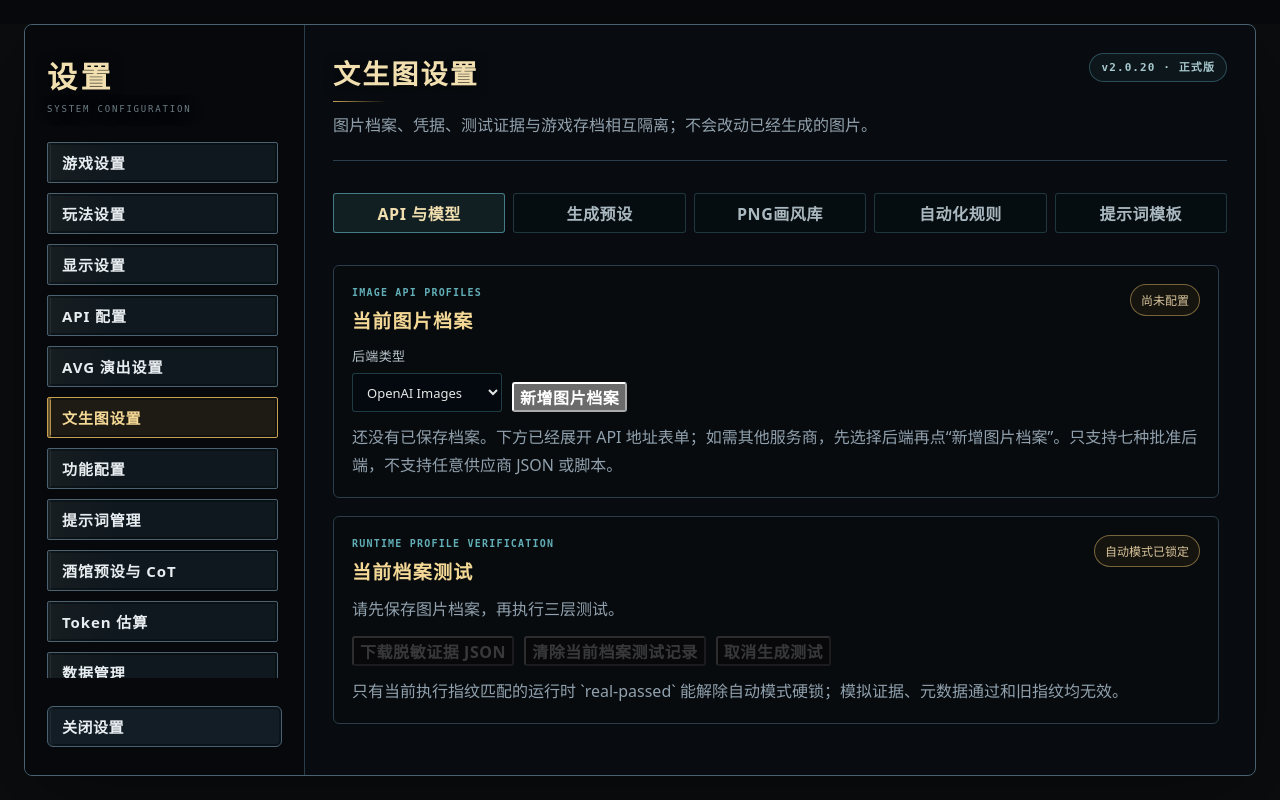
it: SettingsScreen image generation destination › opens the frozen text-to-image settings path directly and keeps it in the main settings navigation
This screenshot has width=1280, height=800.
Expected: the heading "文生图设置" is shown, [333,60,479,90]
Click the button "API 配置" at [162, 316], box [47,295,278,336]
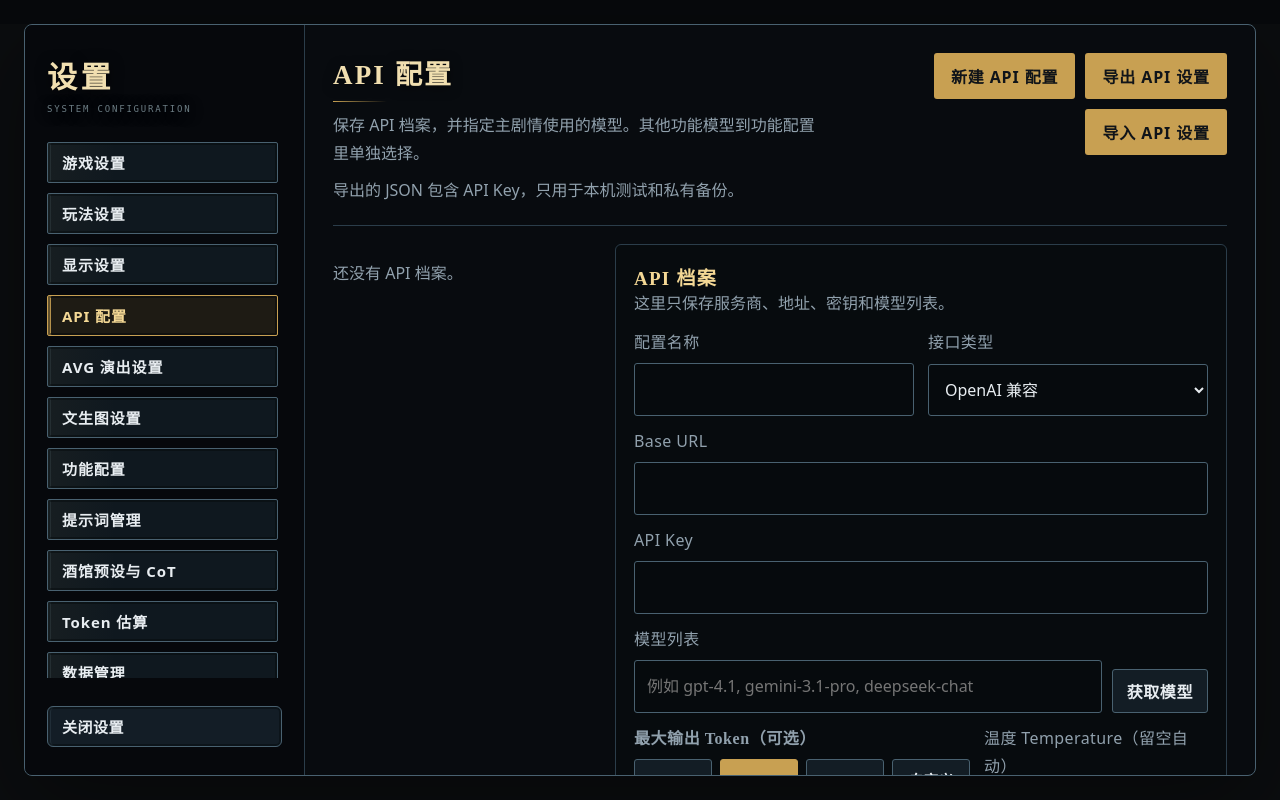
Expected: the heading "API 配置" is shown, [333,60,453,90]
Click the button "文生图设置" at [162, 418], box [47,397,278,438]
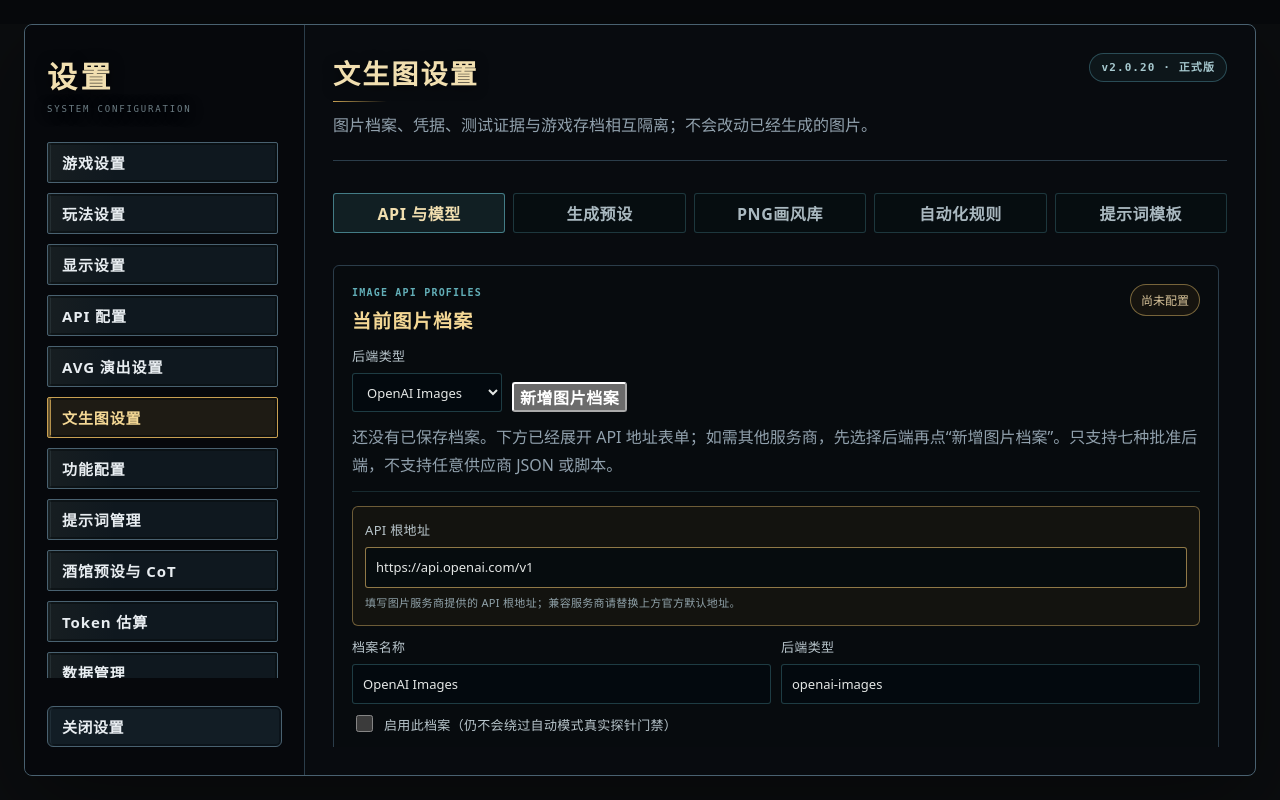
Expected: the heading "当前图片档案" is shown, [352,306,482,333]
